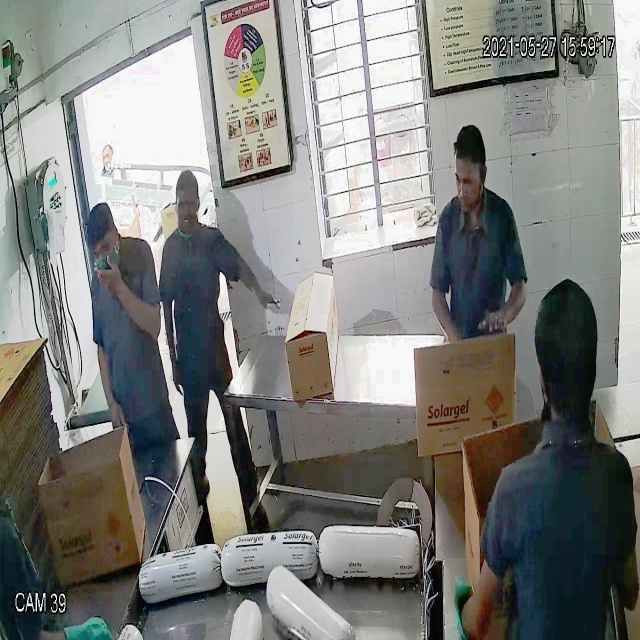Sin_gafas: (83, 235, 126, 265), (451, 166, 492, 194)
